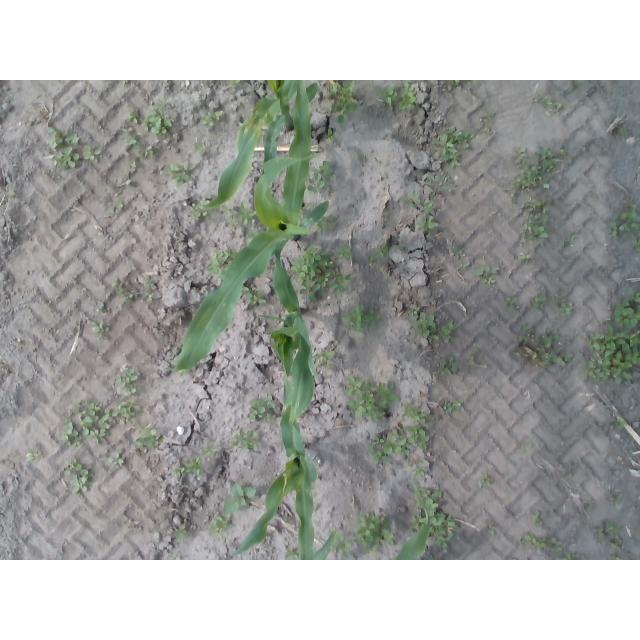Maize: (169, 80, 330, 370), (199, 80, 319, 210), (231, 380, 317, 560), (258, 238, 314, 422), (395, 472, 430, 561), (313, 531, 338, 560)
Weeds: (59, 399, 142, 449), (583, 315, 640, 384), (370, 403, 434, 464), (292, 245, 353, 303), (507, 143, 570, 197), (515, 322, 573, 367), (344, 375, 398, 422), (47, 127, 102, 169), (433, 126, 472, 168), (354, 511, 393, 553), (399, 190, 438, 230), (120, 128, 156, 169), (328, 80, 360, 124), (521, 199, 551, 242), (612, 287, 640, 329), (112, 277, 156, 303), (431, 515, 460, 554), (224, 481, 257, 515), (408, 306, 440, 341), (608, 204, 640, 238), (341, 304, 379, 332), (64, 458, 92, 495), (144, 100, 173, 135), (246, 393, 279, 423), (519, 533, 564, 554), (231, 428, 262, 456), (224, 202, 257, 227), (308, 161, 332, 195), (419, 170, 453, 194), (135, 426, 163, 454), (173, 458, 204, 483), (204, 249, 229, 279), (169, 160, 196, 187), (117, 365, 140, 394), (593, 518, 619, 543), (398, 81, 418, 113), (242, 285, 268, 308), (421, 488, 443, 514), (209, 517, 233, 540), (551, 292, 574, 316), (535, 93, 564, 112), (366, 244, 391, 265), (377, 84, 400, 105), (434, 356, 458, 376), (201, 109, 223, 128), (190, 200, 214, 217), (529, 288, 545, 313), (88, 321, 110, 339), (108, 453, 128, 472), (336, 535, 353, 557), (481, 108, 496, 132), (440, 321, 460, 339), (317, 215, 339, 230), (443, 399, 464, 414), (313, 350, 336, 363), (200, 444, 219, 459), (465, 347, 479, 366), (476, 266, 500, 277), (610, 417, 627, 432), (107, 199, 125, 213), (408, 514, 424, 529), (175, 529, 191, 543), (285, 545, 300, 559), (127, 109, 142, 122), (610, 536, 623, 551), (453, 246, 467, 259), (556, 553, 581, 560), (194, 142, 207, 155), (26, 450, 39, 463), (504, 296, 517, 309), (532, 510, 545, 523), (323, 128, 337, 140), (562, 232, 575, 244), (617, 125, 631, 136), (609, 493, 624, 503), (227, 80, 241, 89), (520, 441, 532, 451), (481, 473, 493, 483), (632, 239, 640, 252), (484, 277, 497, 285), (166, 554, 182, 560), (359, 154, 368, 163), (246, 231, 257, 238), (489, 525, 496, 536), (417, 470, 426, 478), (605, 555, 619, 560), (451, 80, 462, 86), (98, 302, 107, 309), (585, 504, 593, 511), (521, 254, 532, 259), (566, 473, 574, 479), (123, 80, 130, 85), (508, 556, 516, 560), (596, 264, 601, 269)
